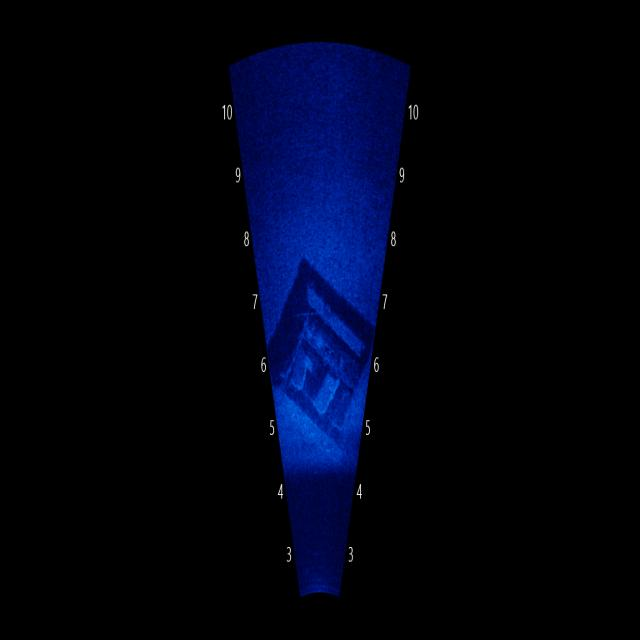square: (265, 254, 377, 457)
